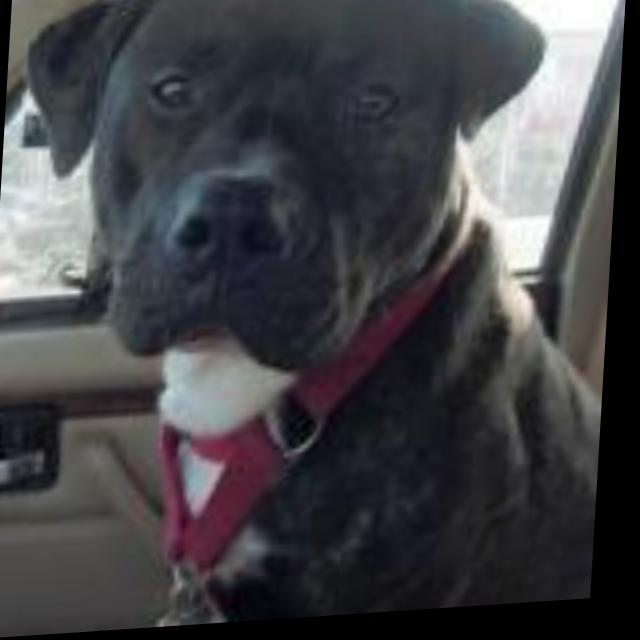amstaff: (1, 1, 629, 640)
